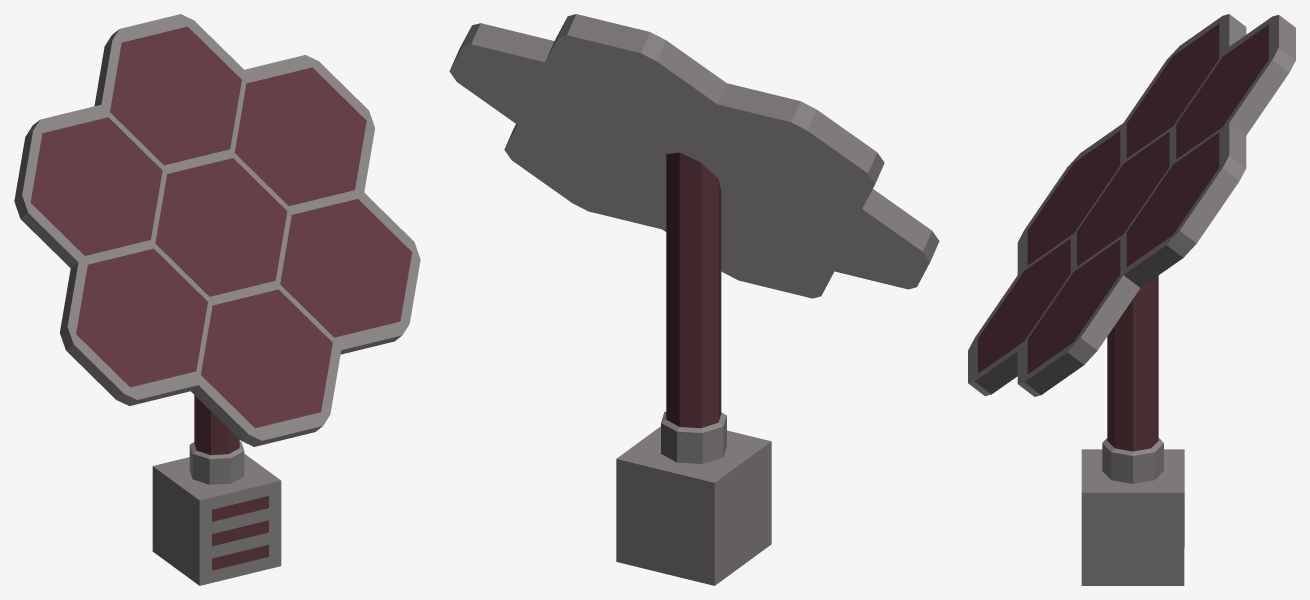
Rendered from scifi-solar-panel-hexagon.fbx.
3 renders of one model, left to right at view 1: azimuth 30°, elevation 25°; view 2: azimuth 150°, elevation 25°; view 3: azimuth 270°, elevation 25°, orthographic. The views are drawn at different scales.
Parts seen in each view (by area): view 1: scifi-solar-panel-hexagon; view 2: scifi-solar-panel-hexagon; view 3: scifi-solar-panel-hexagon.
Part boxes in pixels (left/top/right/bottom): scifi-solar-panel-hexagon: left=14, top=14, right=420, bottom=585; scifi-solar-panel-hexagon: left=449, top=14, right=939, bottom=585; scifi-solar-panel-hexagon: left=968, top=14, right=1295, bottom=585.
Size of the model in its own units: 1.7 by 2.29 by 1.27.
